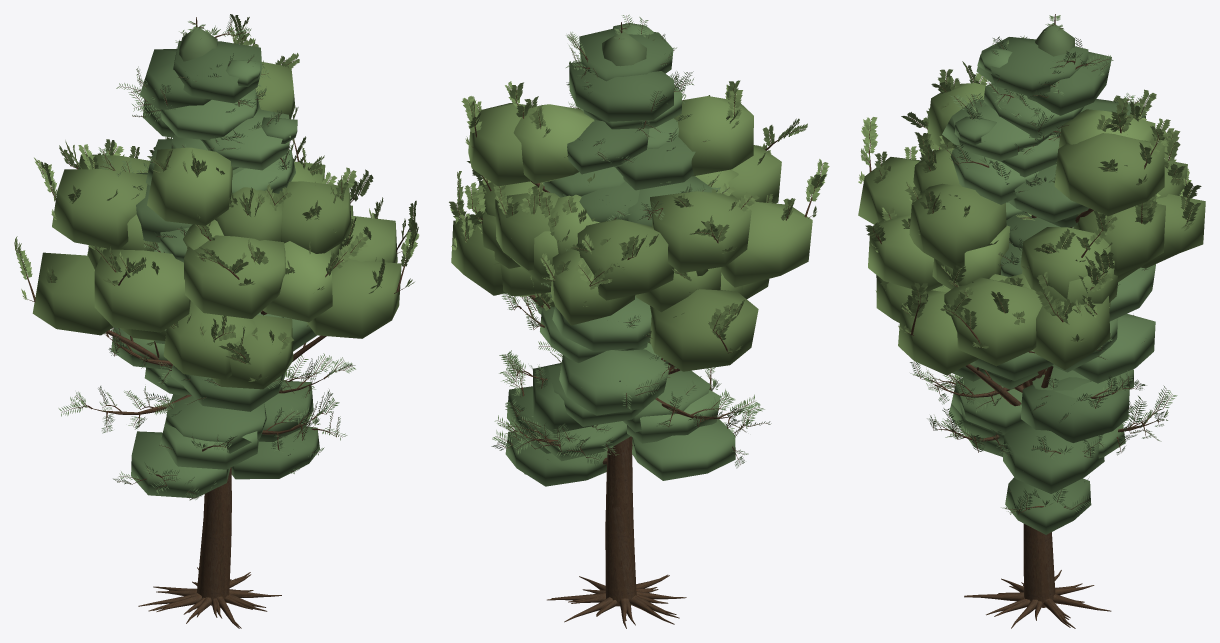
File: tree-library.glb
3 views of the same model, side by side, from view 1: azimuth 30°, elevation 25°; view 2: azimuth 150°, elevation 25°; view 3: azimuth 270°, elevation 25° (orthographic).
Visible parts, largest first — view 1: tree_2_low, tree_3_low, tree_0_low, tree_1_low, tree_3_high, tree_2_high, tree_0_high, tree_1_high; view 2: tree_1_low, tree_3_low, tree_2_low, tree_0_low, tree_3_high, tree_2_high, tree_0_high, tree_1_high; view 3: tree_2_low, tree_1_low, tree_3_low, tree_0_low, tree_2_high, tree_3_high, tree_0_high, tree_1_high.
Part boxes in pixels (x1,y1,x2,y2): tree_2_low: [32, 181, 401, 620]; tree_3_low: [52, 62, 342, 612]; tree_0_low: [104, 109, 319, 612]; tree_1_low: [118, 21, 313, 620]; tree_3_high: [34, 14, 369, 617]; tree_2_high: [14, 137, 419, 628]; tree_0_high: [58, 86, 347, 618]; tree_1_high: [98, 16, 355, 628]; tree_1_low: [507, 23, 720, 616]; tree_3_low: [468, 96, 753, 612]; tree_2_low: [451, 145, 812, 617]; tree_0_low: [505, 118, 735, 612]; tree_3_high: [461, 80, 759, 620]; tree_2_high: [449, 118, 829, 628]; tree_0_high: [491, 73, 771, 625]; tree_1_high: [494, 14, 721, 622]; tree_2_low: [858, 157, 1205, 599]; tree_1_low: [948, 14, 1155, 614]; tree_3_low: [868, 83, 1187, 592]; tree_0_low: [942, 99, 1155, 621]; tree_2_high: [858, 108, 1201, 628]; tree_3_high: [865, 61, 1185, 619]; tree_0_high: [927, 93, 1161, 628]; tree_1_high: [910, 14, 1177, 627].
Bounding box in the file's own units: 11.06 × 19 × 10.26.
2 materials, 1 textured.
